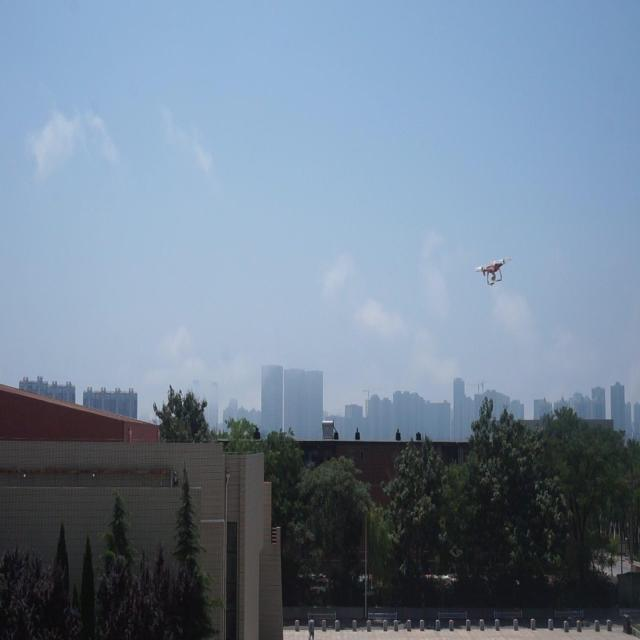drone: (474, 251, 512, 294)
